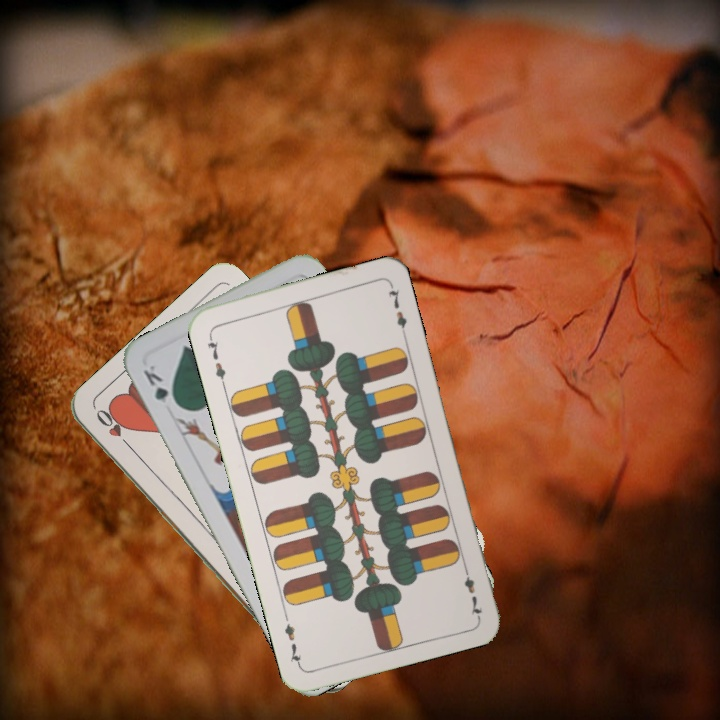E7: (459, 561, 485, 619), (203, 329, 228, 388)
GK: (139, 361, 181, 411)
HO: (92, 405, 136, 453)
